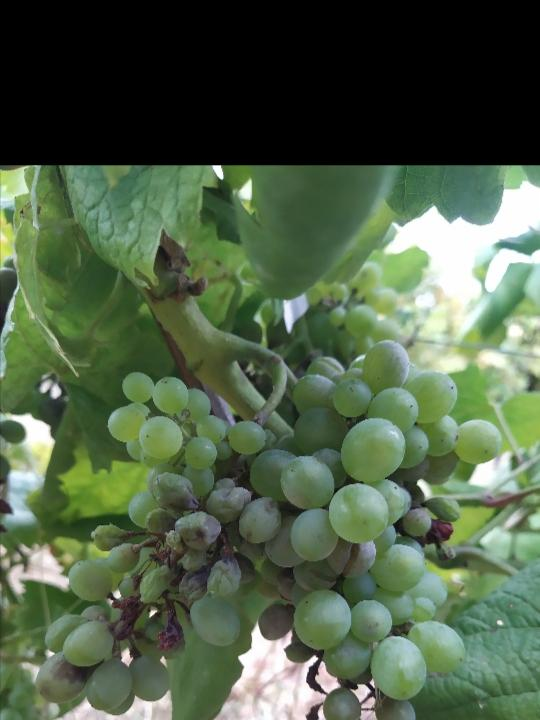grape: (30, 338, 504, 720)
